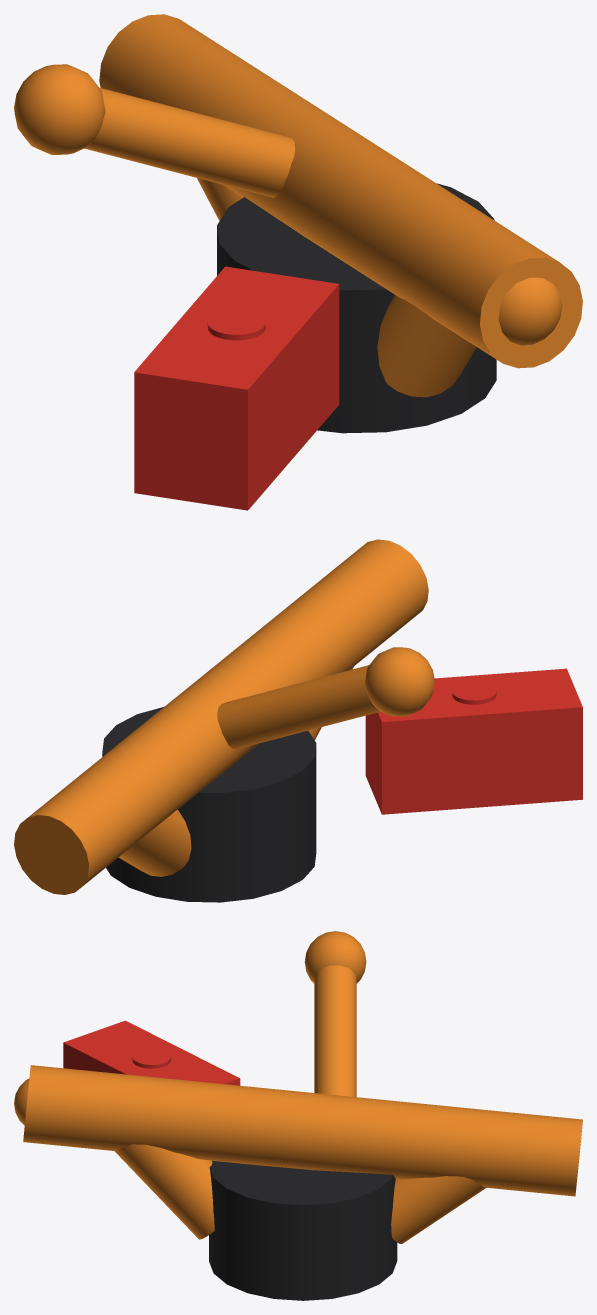
Rendered from fr_upright.gltf.
3 renders of one model, top to bottom at view 1: azimuth 30°, elevation 25°; view 2: azimuth 150°, elevation 25°; view 3: azimuth 270°, elevation 25°, orthographic. The views are drawn at different scales.
Parts seen in each view (by area): view 1: fr_upright; view 2: fr_upright; view 3: fr_upright.
Boxes of the visible parts, x1,y1,x2,y2 form: fr_upright: [14, 14, 582, 510]; fr_upright: [14, 539, 582, 902]; fr_upright: [14, 931, 582, 1300].
Bounding box in the file's own units: 0.2273 × 0.1616 × 0.3503.
